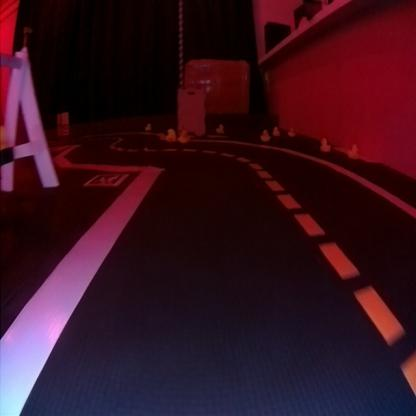Duckie: (322, 137, 332, 151), (349, 144, 358, 158), (261, 129, 271, 141), (180, 130, 190, 142), (168, 128, 176, 140), (216, 124, 224, 132), (290, 127, 296, 136), (146, 122, 152, 130), (274, 127, 280, 132)
QR code: (86, 173, 128, 185)
